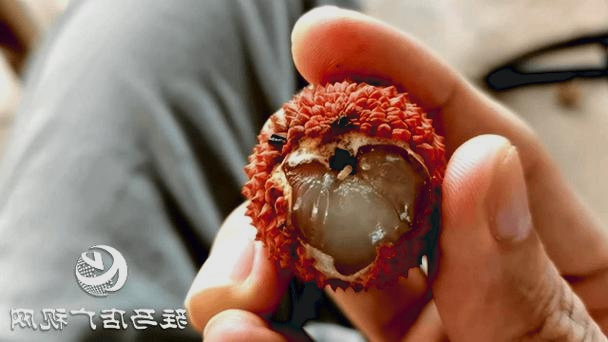Borer: (327, 154, 355, 187)
